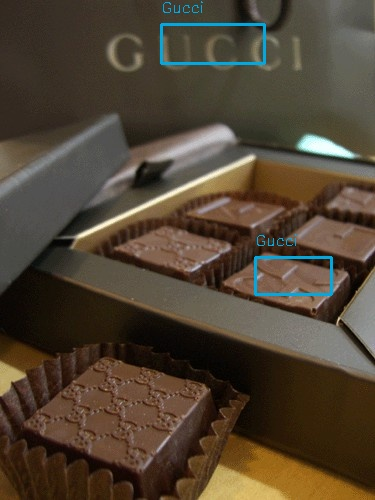Chanel: (99, 25, 314, 76), (236, 252, 345, 313), (104, 395, 132, 416)
